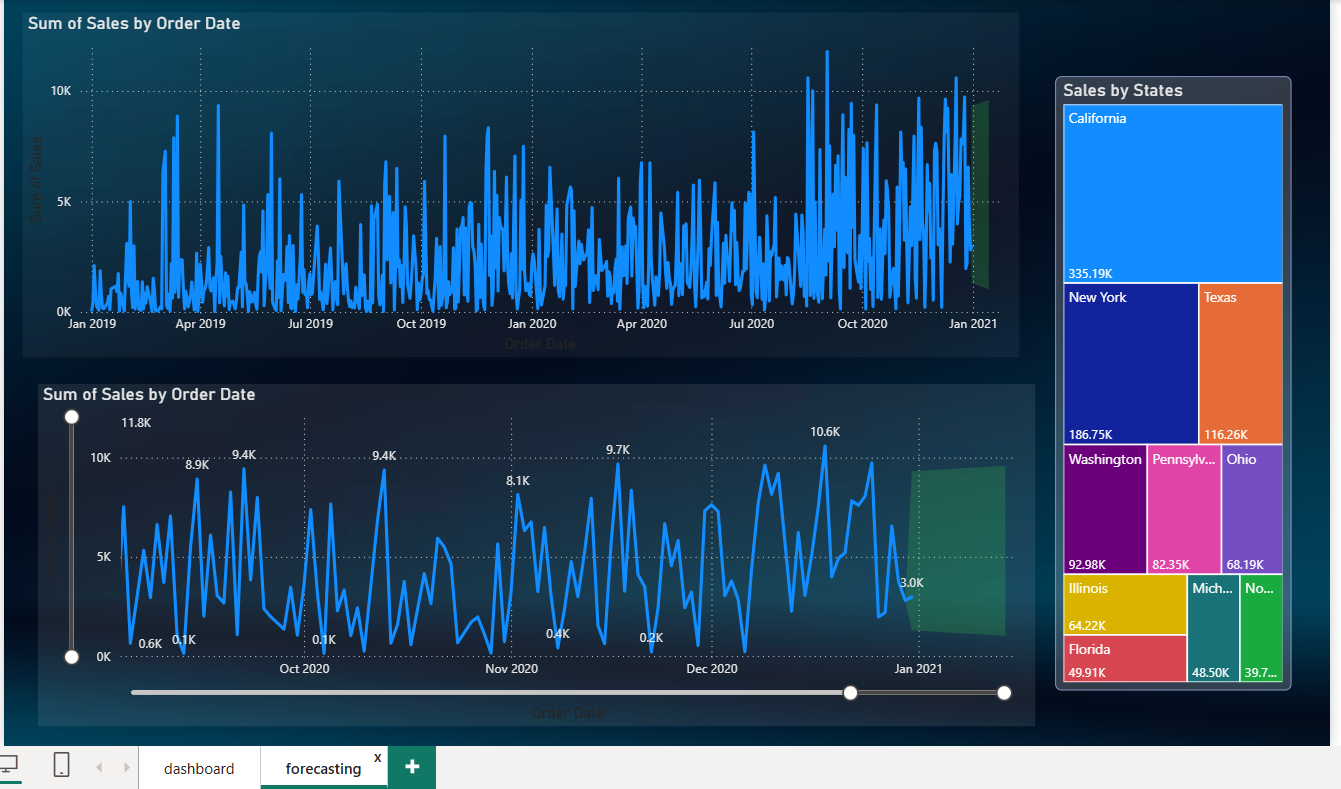

The page's visual inventory and layout, read from the dashboard file:
{"tool":"powerbi","page":{"name":"forecasting","canvas":[1280,720],"ordinal":1},"visuals":[{"type":"lineChart","fields":{"Y":["Sum(SuperStore_Sales_Dataset.Sales)"],"Category":["SuperStore_Sales_Dataset.Order Date"]},"box":[32.5,370,962.5,330],"z":0},{"type":"lineChart","fields":{"Y":["Sum(SuperStore_Sales_Dataset.Sales)"],"Category":["SuperStore_Sales_Dataset.Order Date"]},"box":[18.1,12.1,961.5,333],"z":1000},{"type":"treemap","title":"Sales by States","fields":{"Group":["SuperStore_Sales_Dataset.State"],"Values":["Sum(SuperStore_Sales_Dataset.Sales)"]},"box":[1014.1,74.1,227.8,592.8],"z":2000}]}

Visuals, with their boxes on the page's 1280x720 design canvas (x1, y1, x2, y2). These are canvas units, not pixel positions in the 1341x789 screenshot, which may show the page scaled, cropped or inside an application window:
lineChart - Sum(SuperStore_Sales_Dataset.Sales) x SuperStore_Sales_Dataset.Order Date: BBox(32, 370, 995, 700)
lineChart - Sum(SuperStore_Sales_Dataset.Sales) x SuperStore_Sales_Dataset.Order Date: BBox(18, 12, 980, 345)
"Sales by States" treemap: BBox(1014, 74, 1242, 667)
